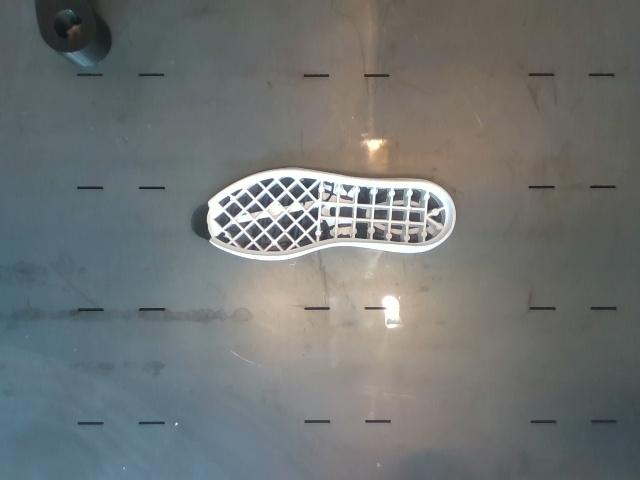shoes: (193, 172, 453, 257)
